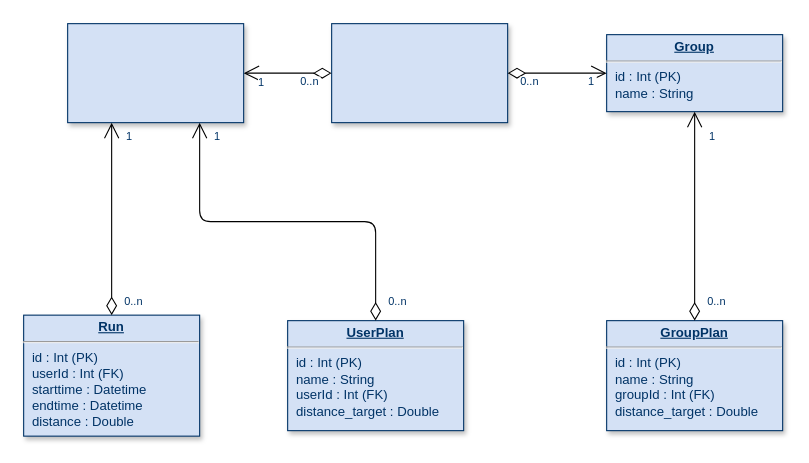
Some shapes in this 809 by 463 pixel diagram are drawn without their labels. The shapes that lost their labels are listed below. From the top down, each one's centre as x and y in pixels, then its label:
At point 156,74: "User id : Int (PK) email : String password : String".
At point 420,74: "RelationUserGroup id : Int (PK) userId : Int (FK) groupId : Int (FK)".
